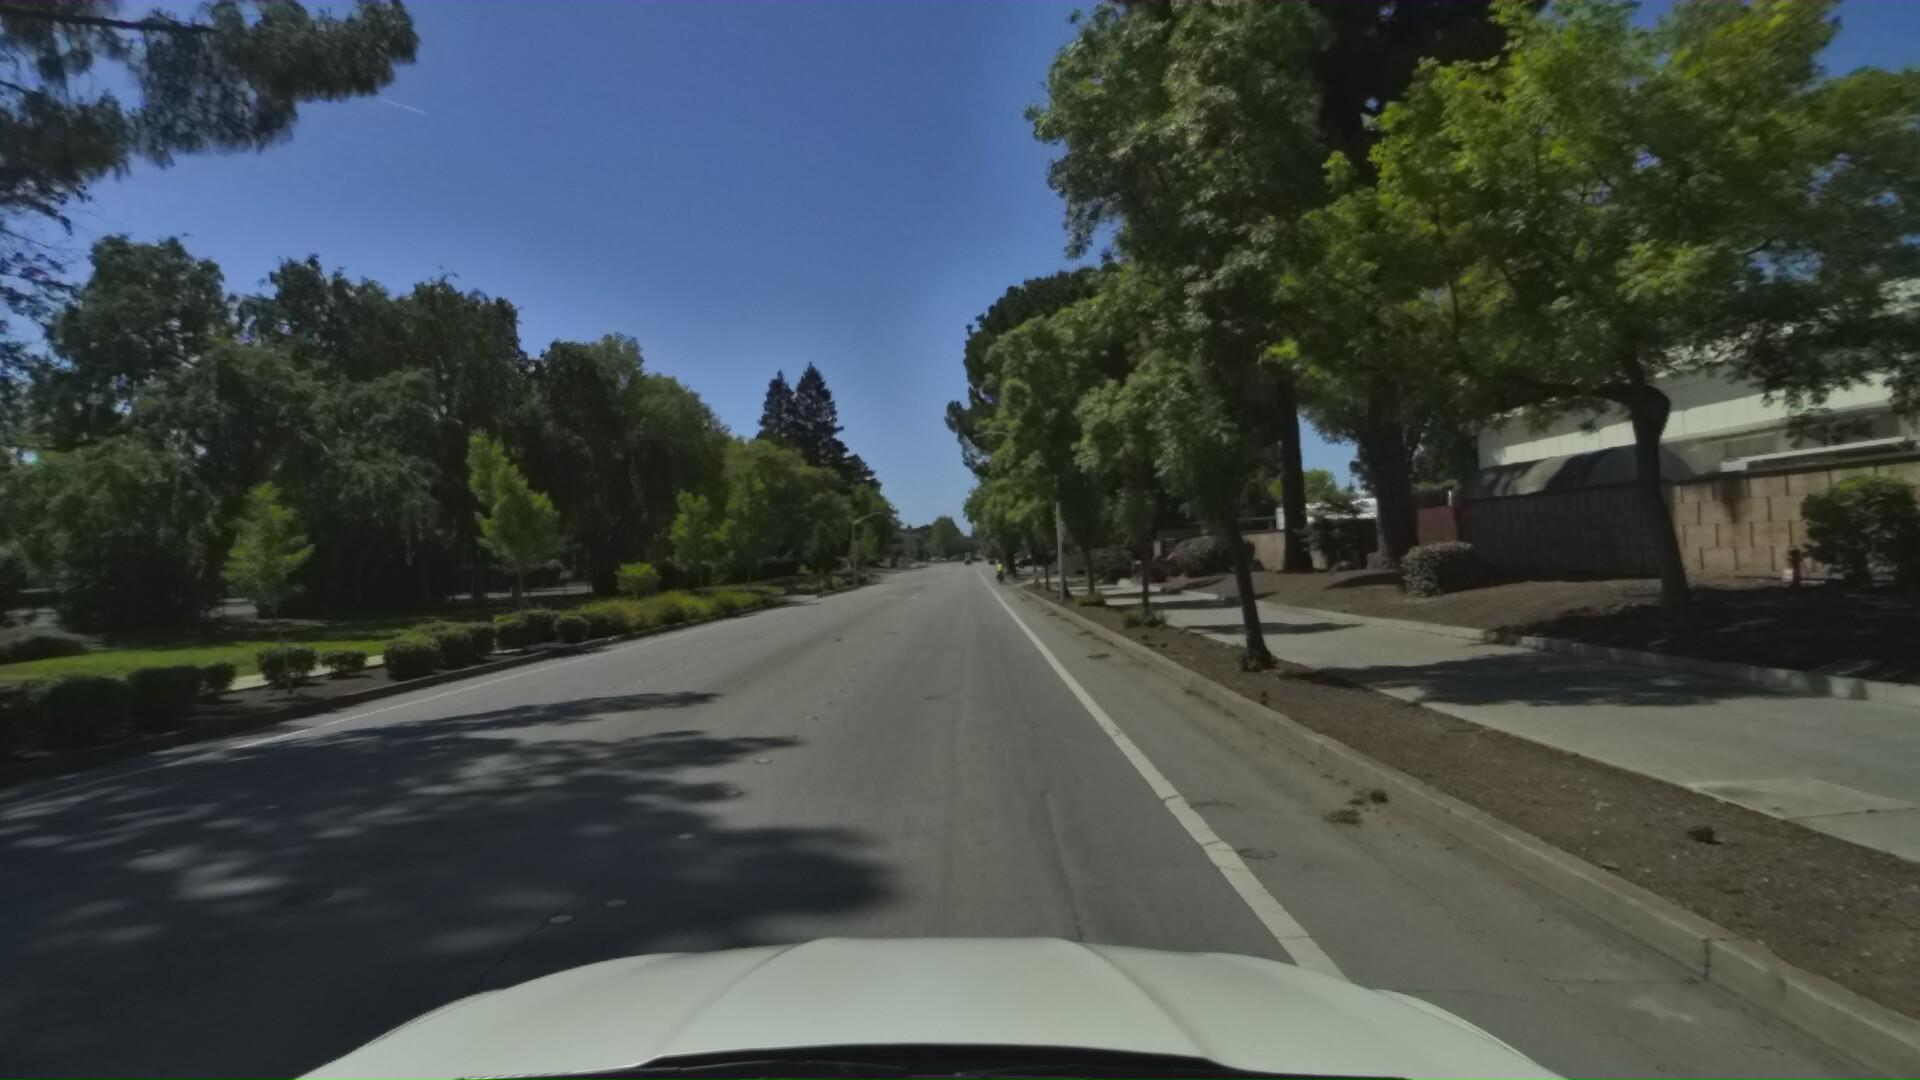bicycle: (992, 545, 1009, 574)
